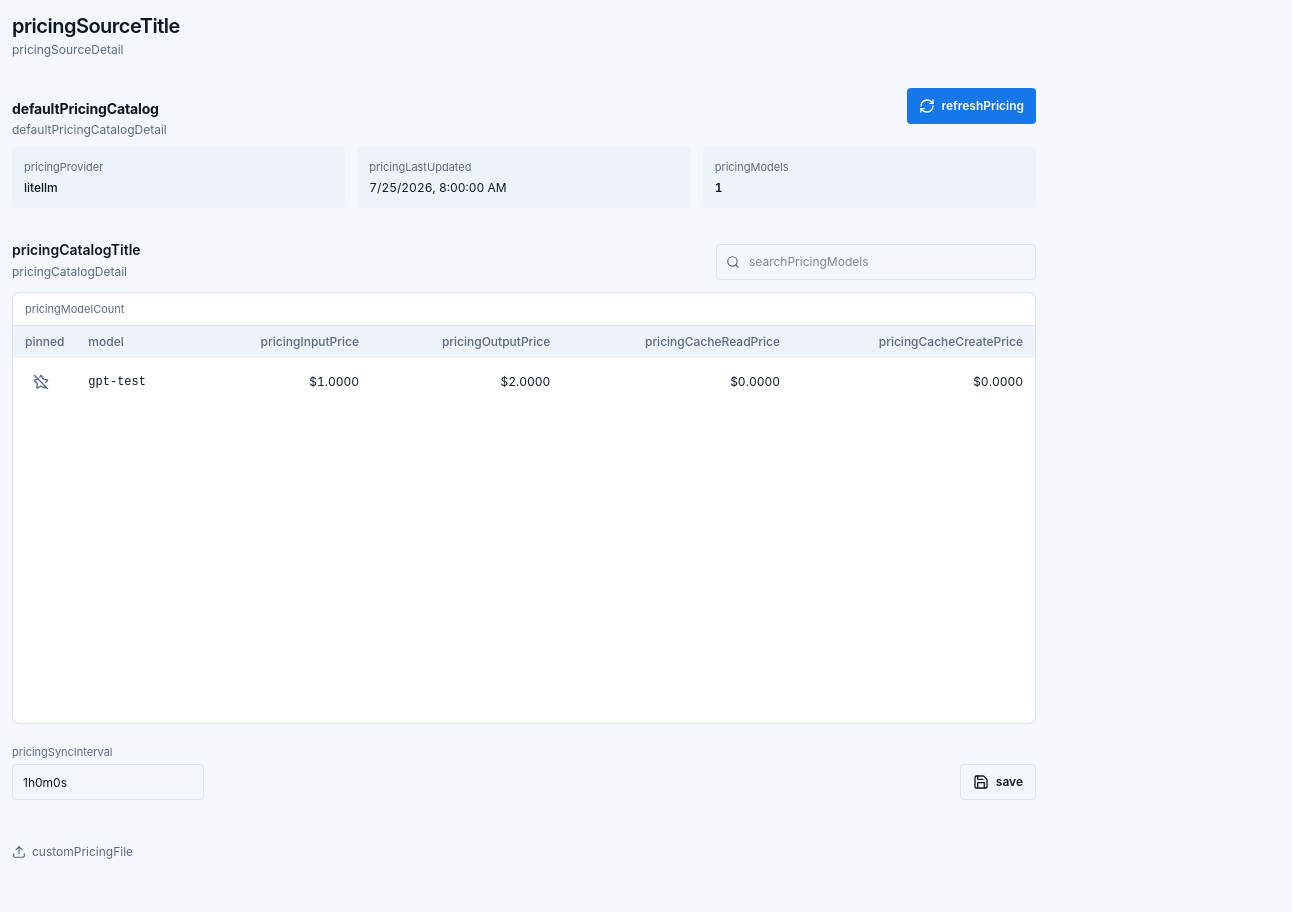
Scenario: application settings › shows a refresh error and keeps the action retryable
Check: the heading "pricingSourceTitle" is shown, box [12,12,180,40]
Click the button "refreshPricing": (972, 106) [907,88,1036,124]
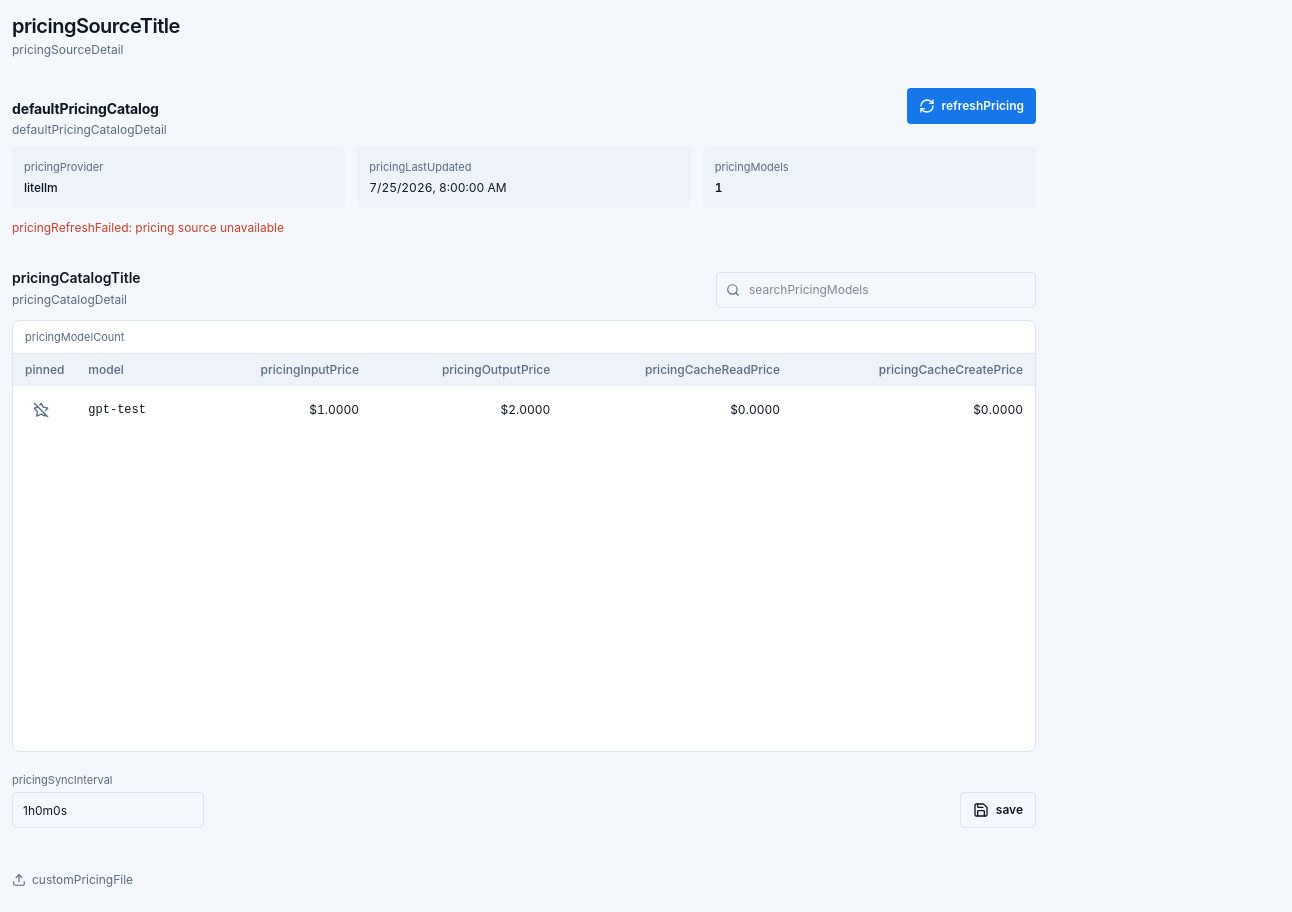
Check: the text "pricingRefreshFailed: pricing source unavailable" is shown, box [12,220,284,235]
